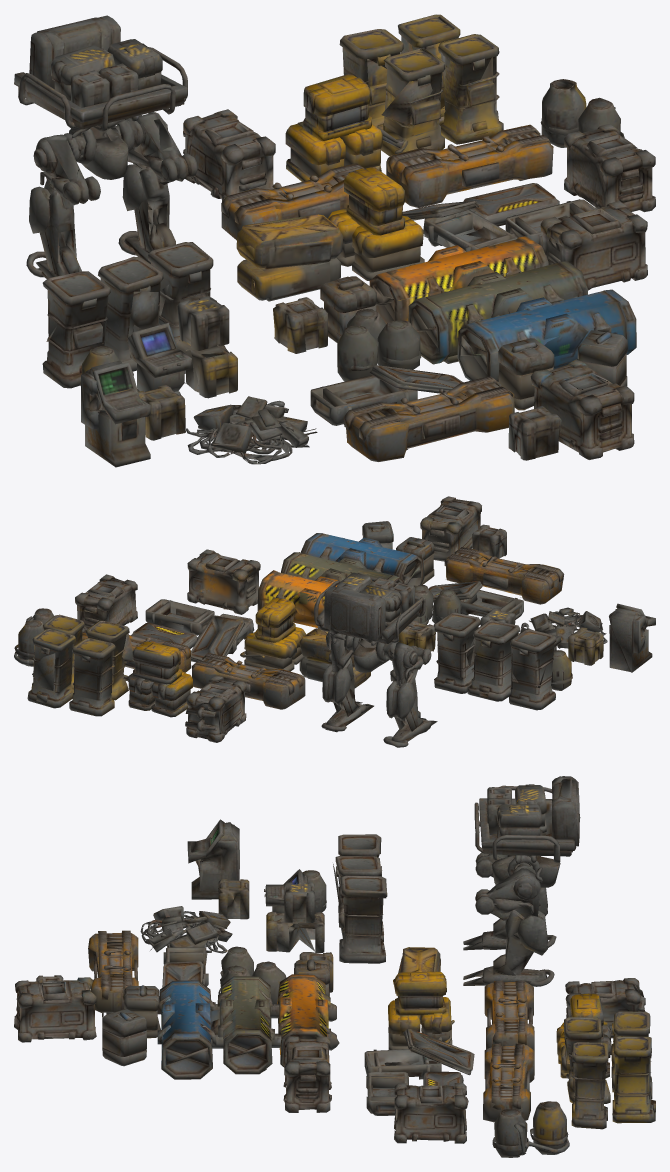
Rendered from space_junk_pile.glb.
The picture shows the model from 3 angles, top to bottom: view 1: azimuth 30°, elevation 25°; view 2: azimuth 150°, elevation 25°; view 3: azimuth 270°, elevation 25°; orthographic projection. The views are drawn at different scales.
Bounding box in the file's own units: 0.9546 × 0.2915 × 0.9434.
1 material, 1 textured.
